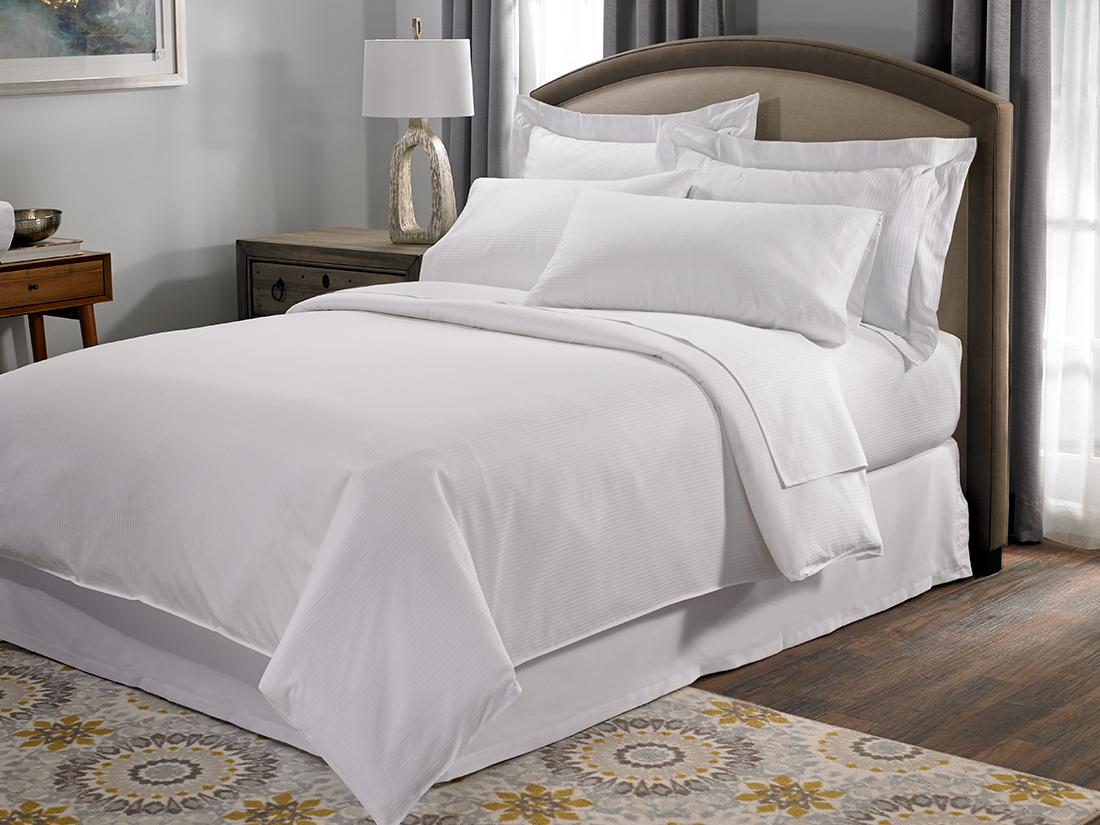bed: (96, 82, 1030, 586)
